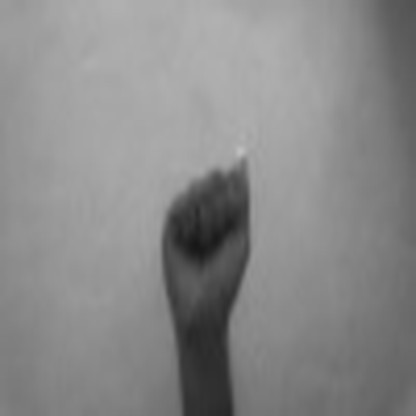a: (152, 144, 262, 336)
